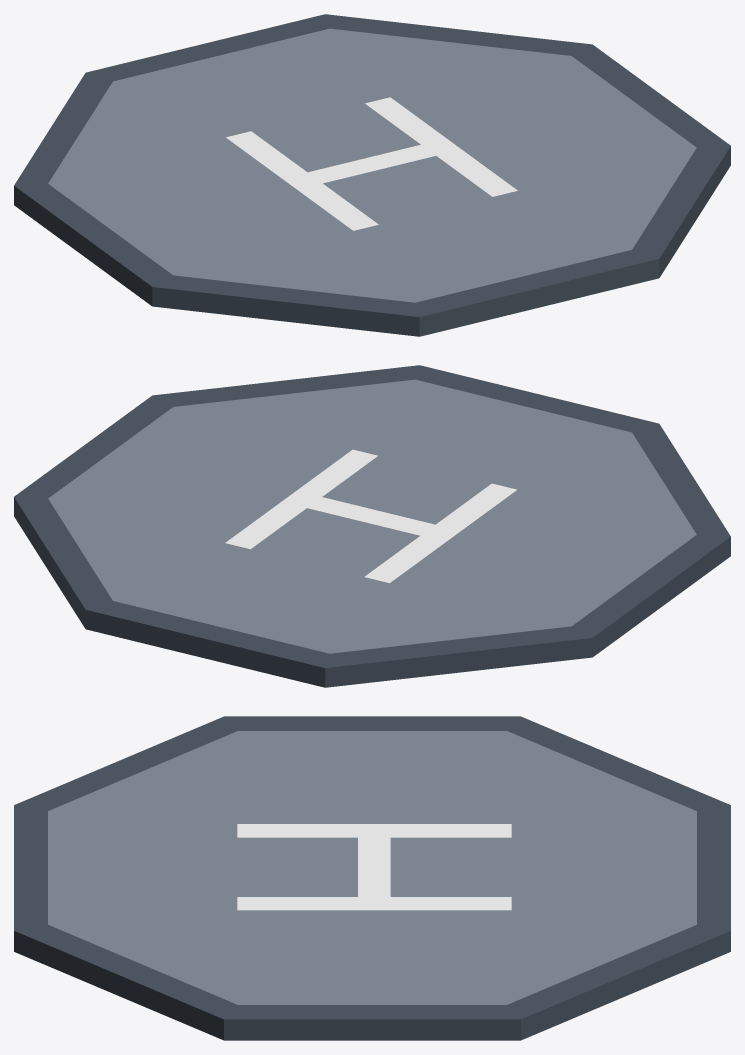
Rendered from heli_pad.fbx.
The picture shows the model from 3 angles, top to bottom: view 1: azimuth 30°, elevation 25°; view 2: azimuth 150°, elevation 25°; view 3: azimuth 270°, elevation 25°; orthographic projection. The views are drawn at different scales.
Visible parts, largest first — view 1: heli_pad; view 2: heli_pad; view 3: heli_pad.
Part boxes in pixels (bbox=[...]): heli_pad: bbox=[14, 14, 730, 336]; heli_pad: bbox=[14, 365, 730, 687]; heli_pad: bbox=[14, 716, 730, 1040].
Bounding box in the file's own units: 1394 × 47.17 × 1394.
